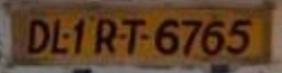1: (71, 16, 89, 57)
5: (226, 15, 255, 55)
6: (153, 15, 181, 56), (204, 19, 228, 58)
7: (180, 18, 205, 59)
D: (24, 17, 51, 52)
L: (51, 16, 69, 56)
R: (93, 16, 118, 58)
T: (121, 16, 148, 59)
